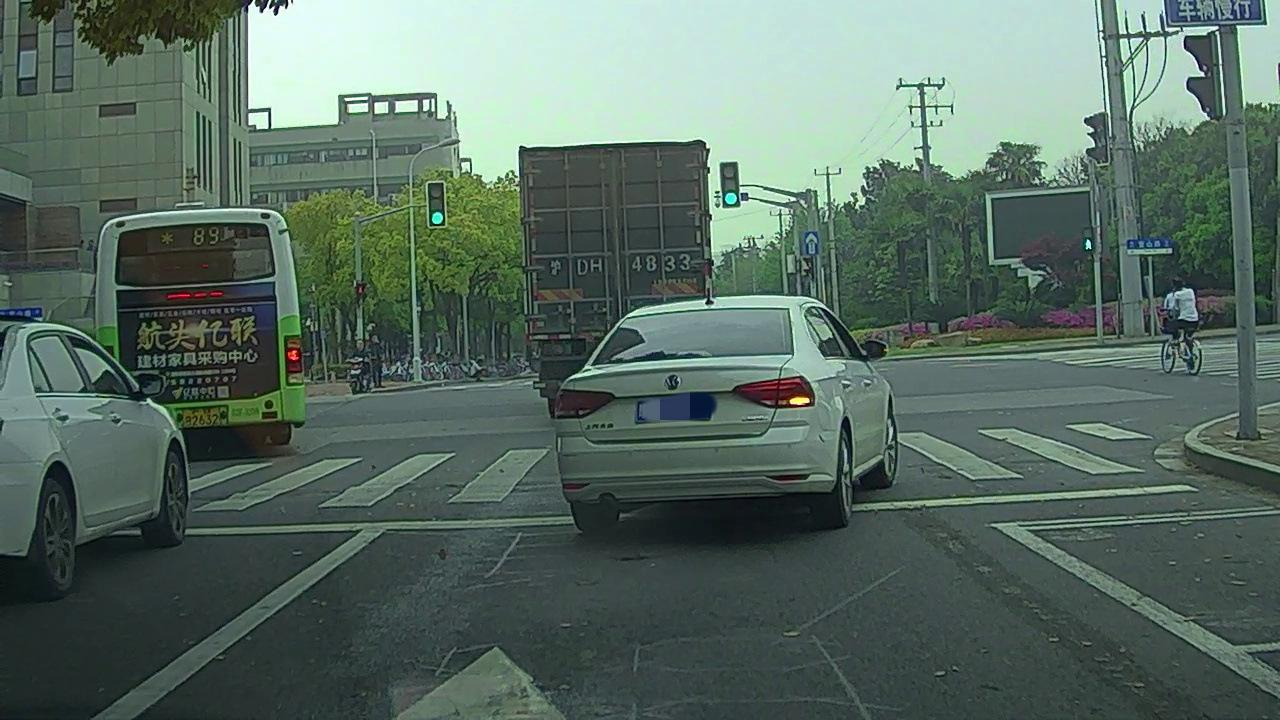traffic_light: (426, 181, 446, 228), (721, 160, 739, 209)
